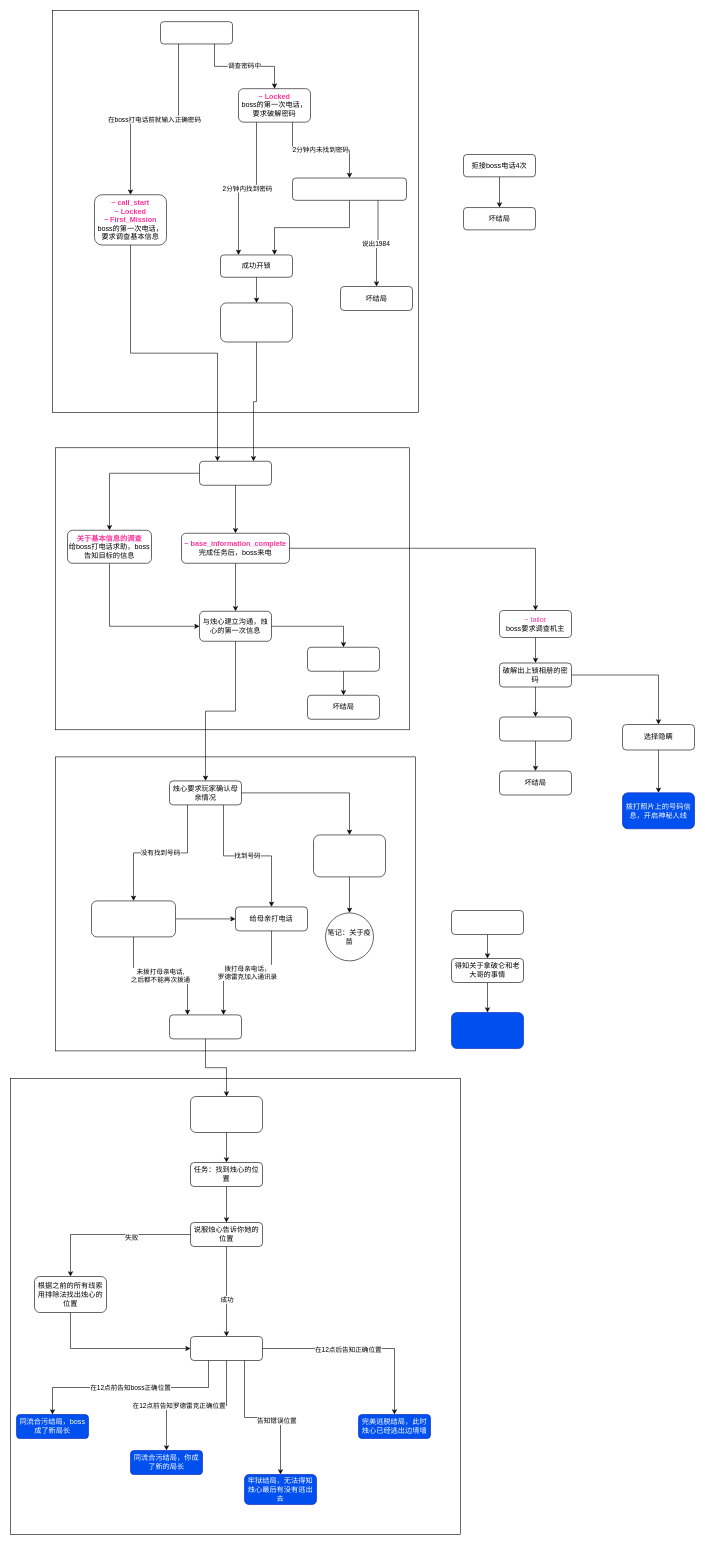
The diagram is 705 pixels wide and 1545 high, and some of its shapes have lost their labels. Each missing label, with the centre of its shape:
~ call_start ~ First_Mission boss的第二次电话，要求调查基本信息: the point at 256,322
~ Havent_found_the_password boss打电话提示密码: the point at 349,188
与烛心交流，得知她已经到边境墙前，但具体位置未知: the point at 226,1114
任务：开机密码: the point at 196,32
任务：找出基本信息: the point at 235,473
关于与烛心的交流 boss来电，询问烛心的情况，交代部分信息: the point at 349,855
关于给烛心的母亲打电话 给boss打电话询问号码，boss给予提示: the point at 133,918
再次拨打罗德雷克的号码: the point at 487,922
向烛心交代母亲的情况: the point at 205,1026
告诉boss自己与烛心的往事: the point at 535,728
得知老大哥并未死亡，接受白金筹码任务: the point at 487,1030
接了烛心的电话: the point at 343,659
获取或没有获取到正确位置: the point at 226,1348
